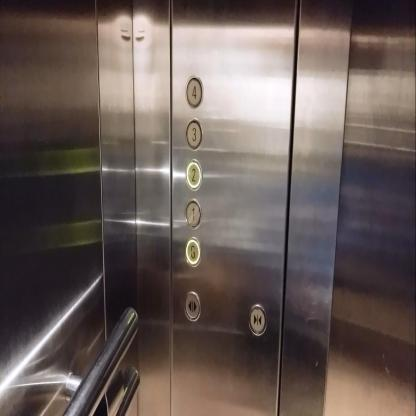1: (184, 197, 202, 231)
2: (184, 157, 203, 192)
3: (184, 117, 204, 152)
4: (184, 74, 205, 109)
G: (183, 234, 202, 268)
close: (248, 301, 267, 336)
open: (184, 290, 202, 324)
